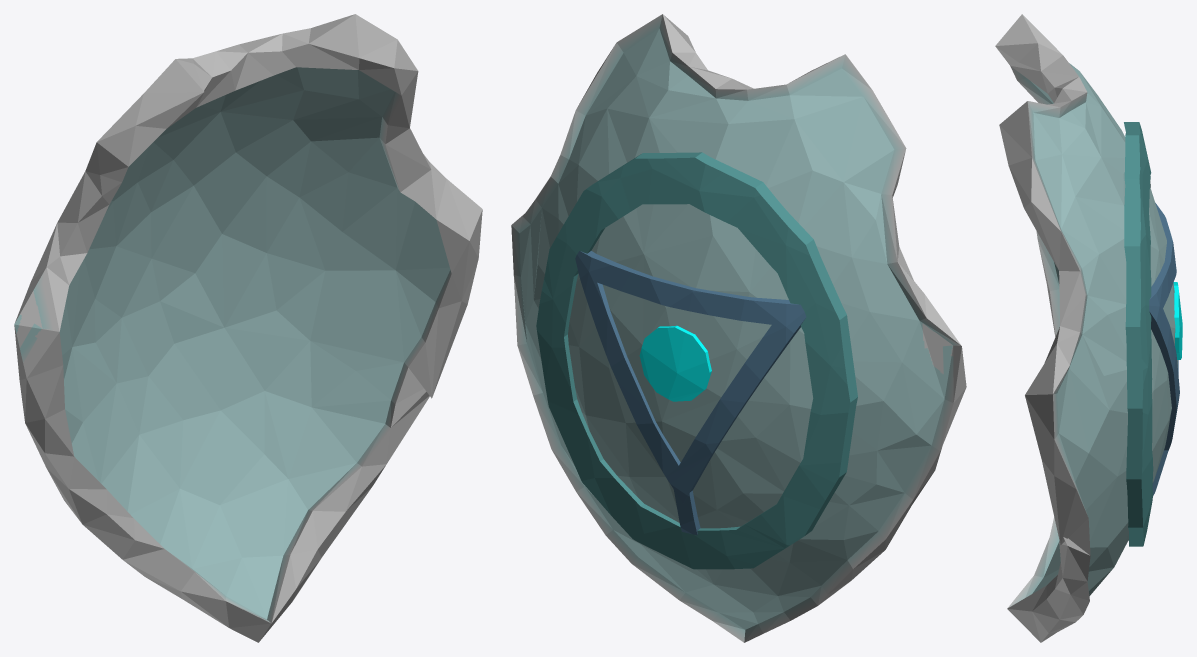
File: shield.fbx
The picture shows the model from 3 angles, left to right: view 1: azimuth 30°, elevation 25°; view 2: azimuth 150°, elevation 25°; view 3: azimuth 270°, elevation 25°; orthographic projection. The views are drawn at different scales.
Visible parts, largest first — view 1: set_material; view 2: set_material; view 3: set_material.
Part boxes in pixels (left/top/right/bottom): set_material: left=14, top=14, right=482, bottom=642; set_material: left=511, top=14, right=966, bottom=642; set_material: left=995, top=14, right=1182, bottom=642.
Size of the model in its own units: 0.5222 by 0.6614 by 0.192.
